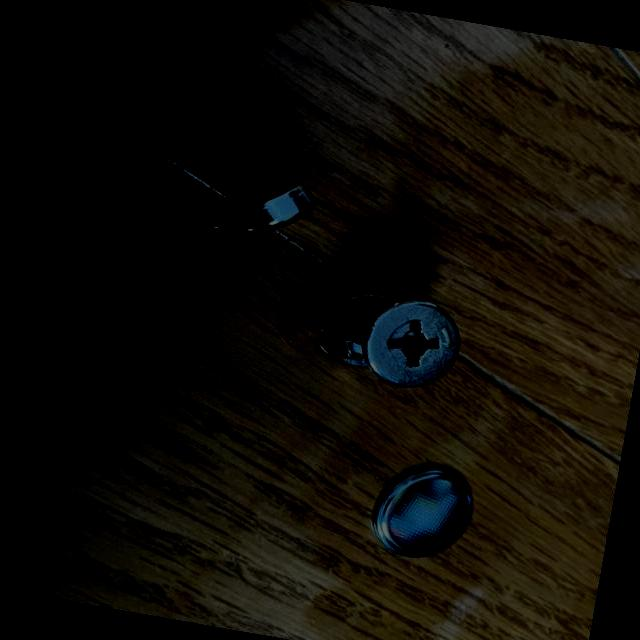COIN: (368, 458, 478, 568), (216, 168, 321, 244)
